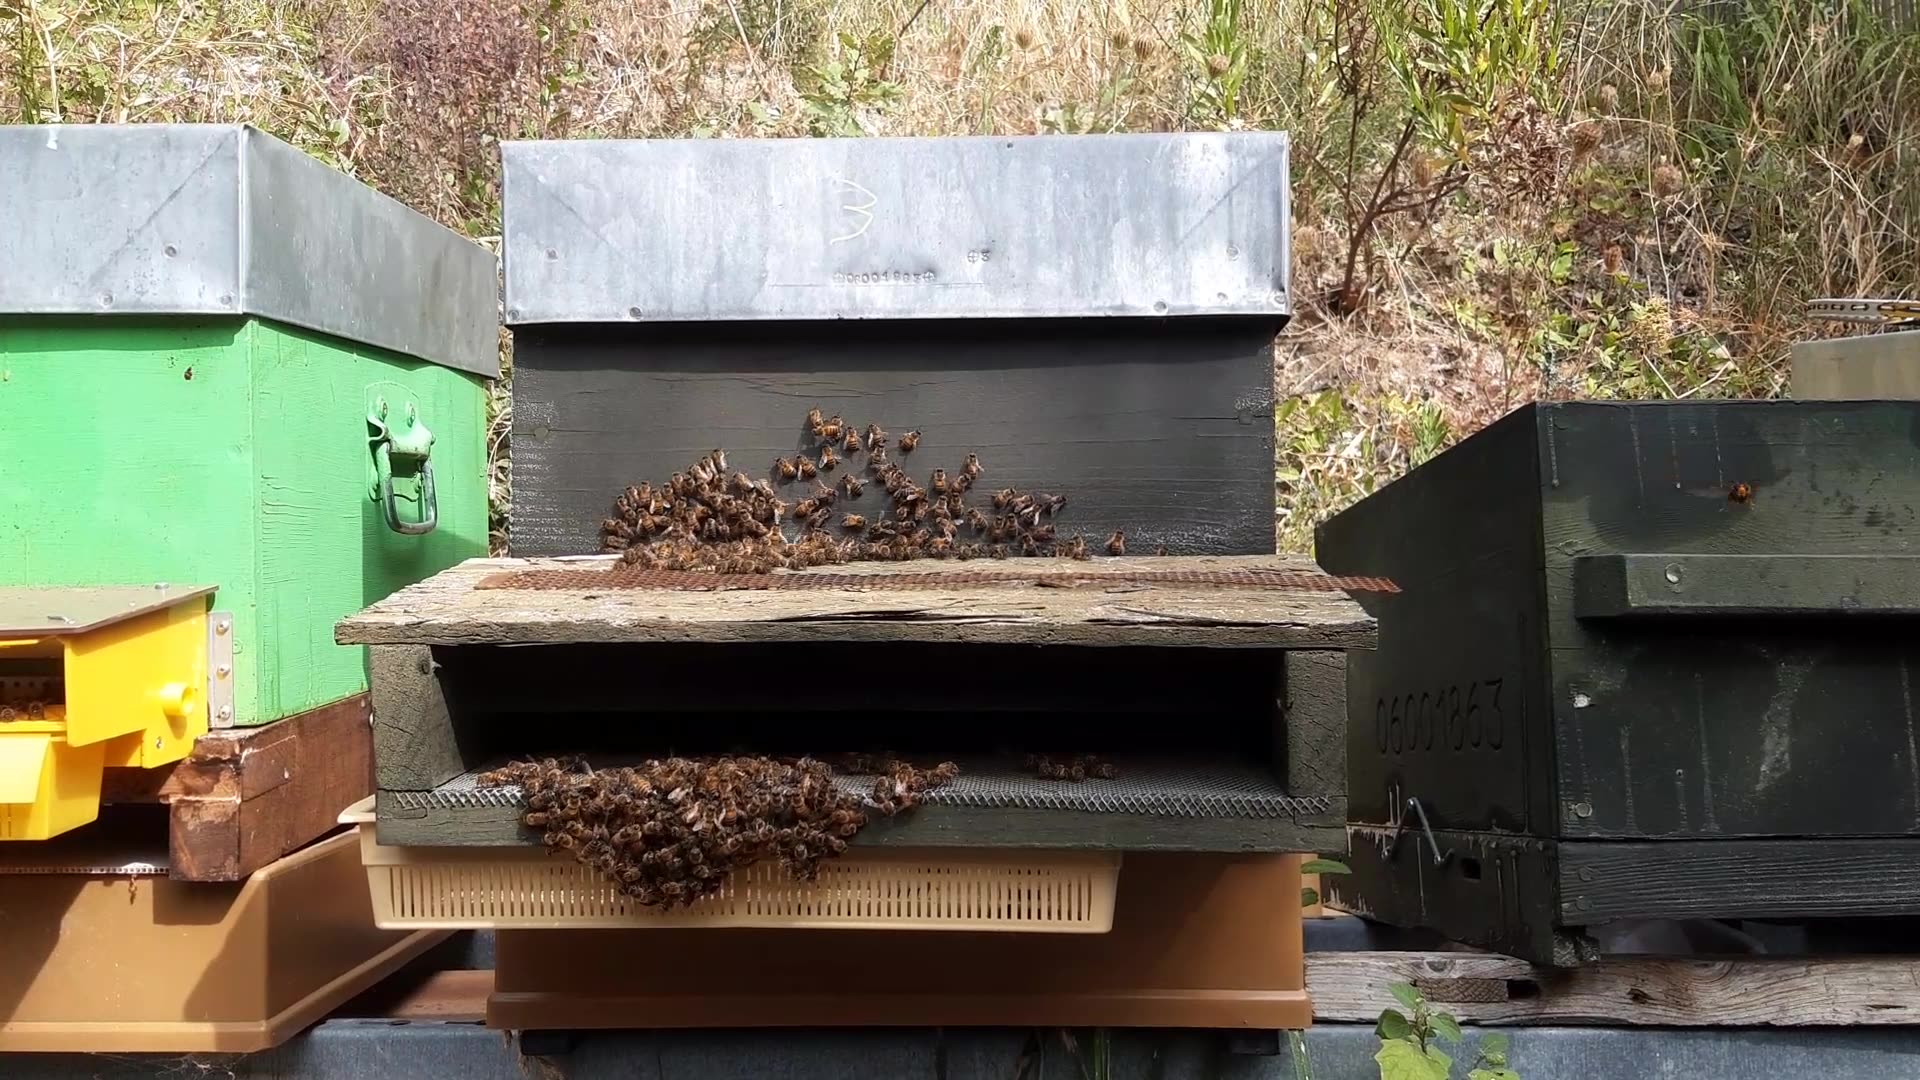bee: (638, 836, 727, 914), (497, 786, 582, 848), (705, 752, 802, 802), (814, 506, 905, 556), (628, 752, 731, 794), (731, 510, 811, 562), (708, 469, 785, 520), (1309, 272, 1367, 336), (1009, 502, 1083, 553), (607, 505, 673, 559), (502, 757, 579, 799), (835, 473, 901, 522), (928, 472, 992, 521), (578, 855, 634, 909), (659, 471, 713, 513), (808, 423, 868, 462)
